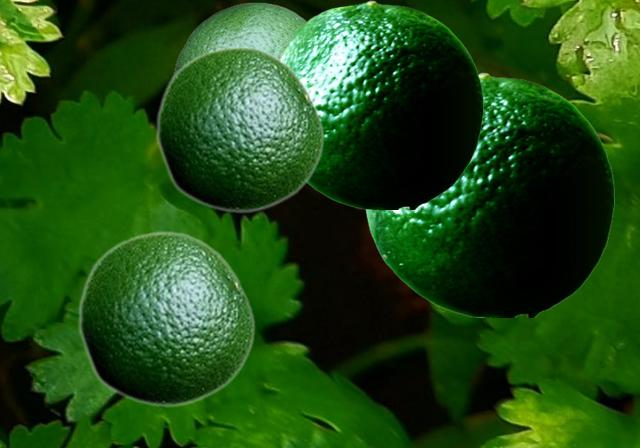calamansi: (365, 72, 613, 316), (279, 0, 482, 208), (77, 230, 255, 407), (155, 45, 324, 213), (173, 2, 307, 71)
